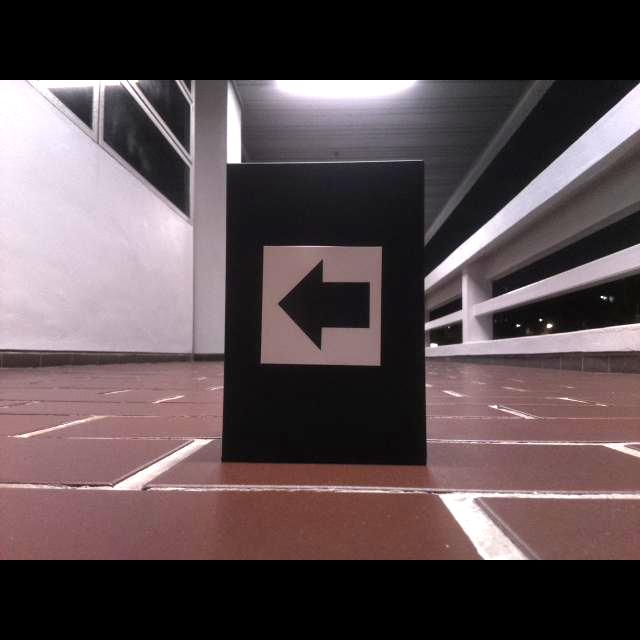LEFT: (277, 257, 371, 351)
